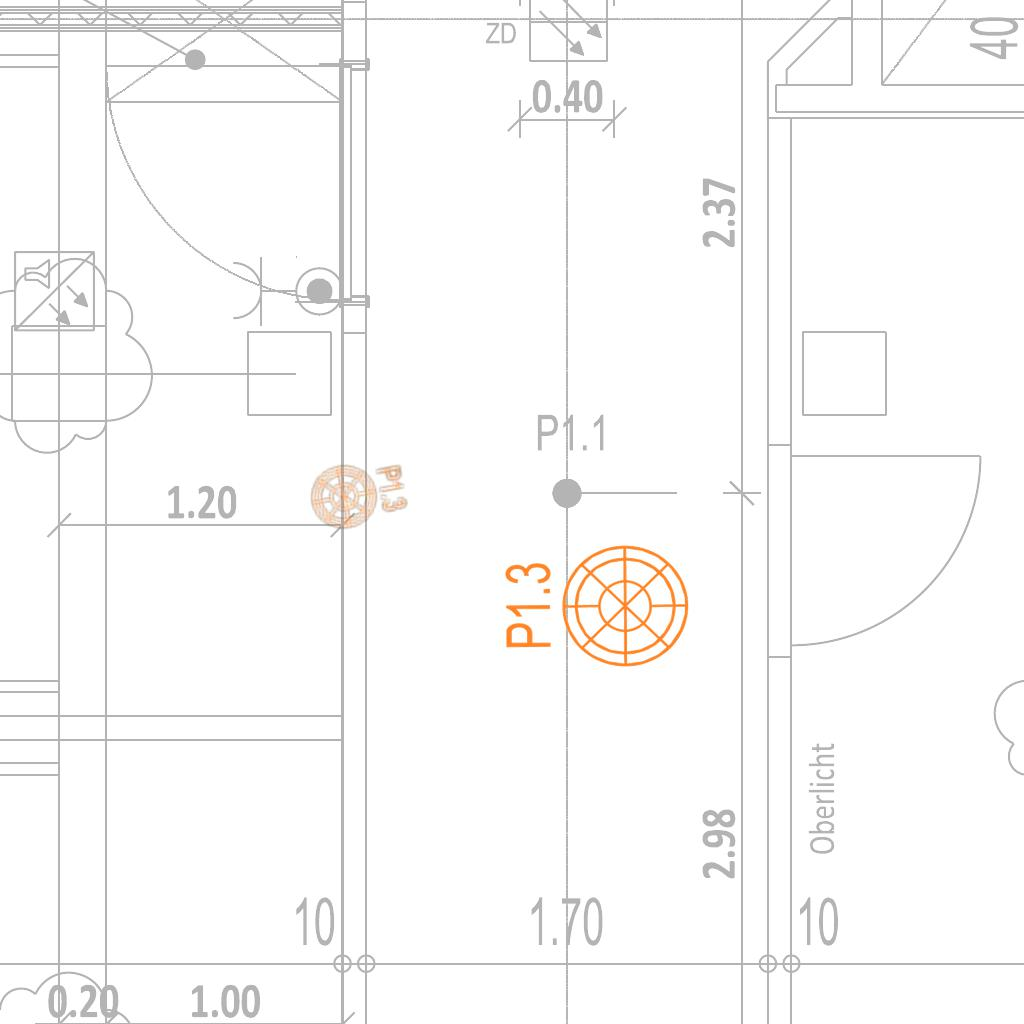Aufbaurundleuchte_LED_Treppenhaus: (487, 531, 692, 670), (305, 453, 419, 540)
